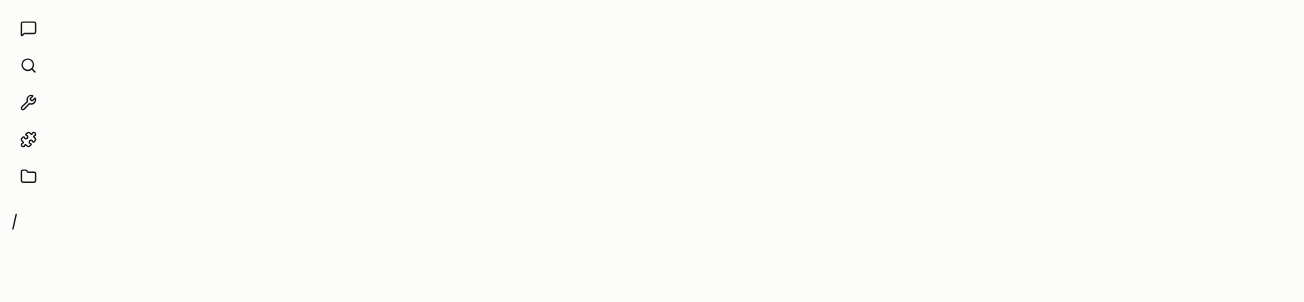
it: extension navigation › opens customization without directory or standalone MCP (collapsed=true)
Click the button named "Extensions" at (28, 140), box [12,123,1292,156]
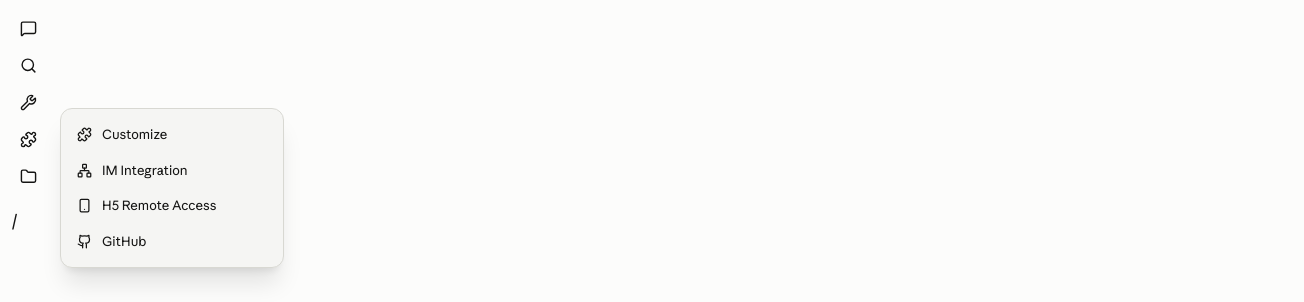
Click the button "Customize" at (172, 135), box [69,117,275,152]
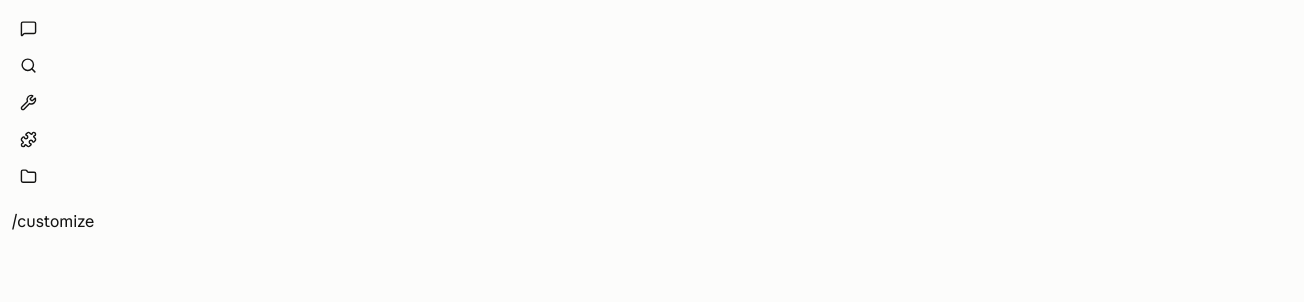
Expected: the text with test id "location" reads "/customize", [12,211,94,231]
Expected: the button named "Extensions" is collapsed, [12,123,1292,156]
